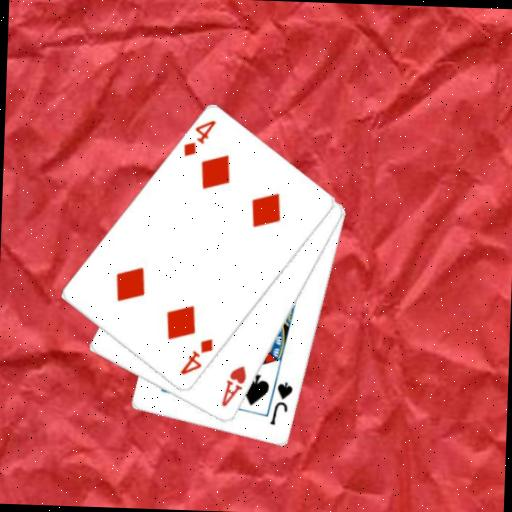4D: (179, 116, 217, 160), (177, 335, 215, 378)
AH: (218, 362, 248, 410)
JS: (267, 379, 295, 428)
